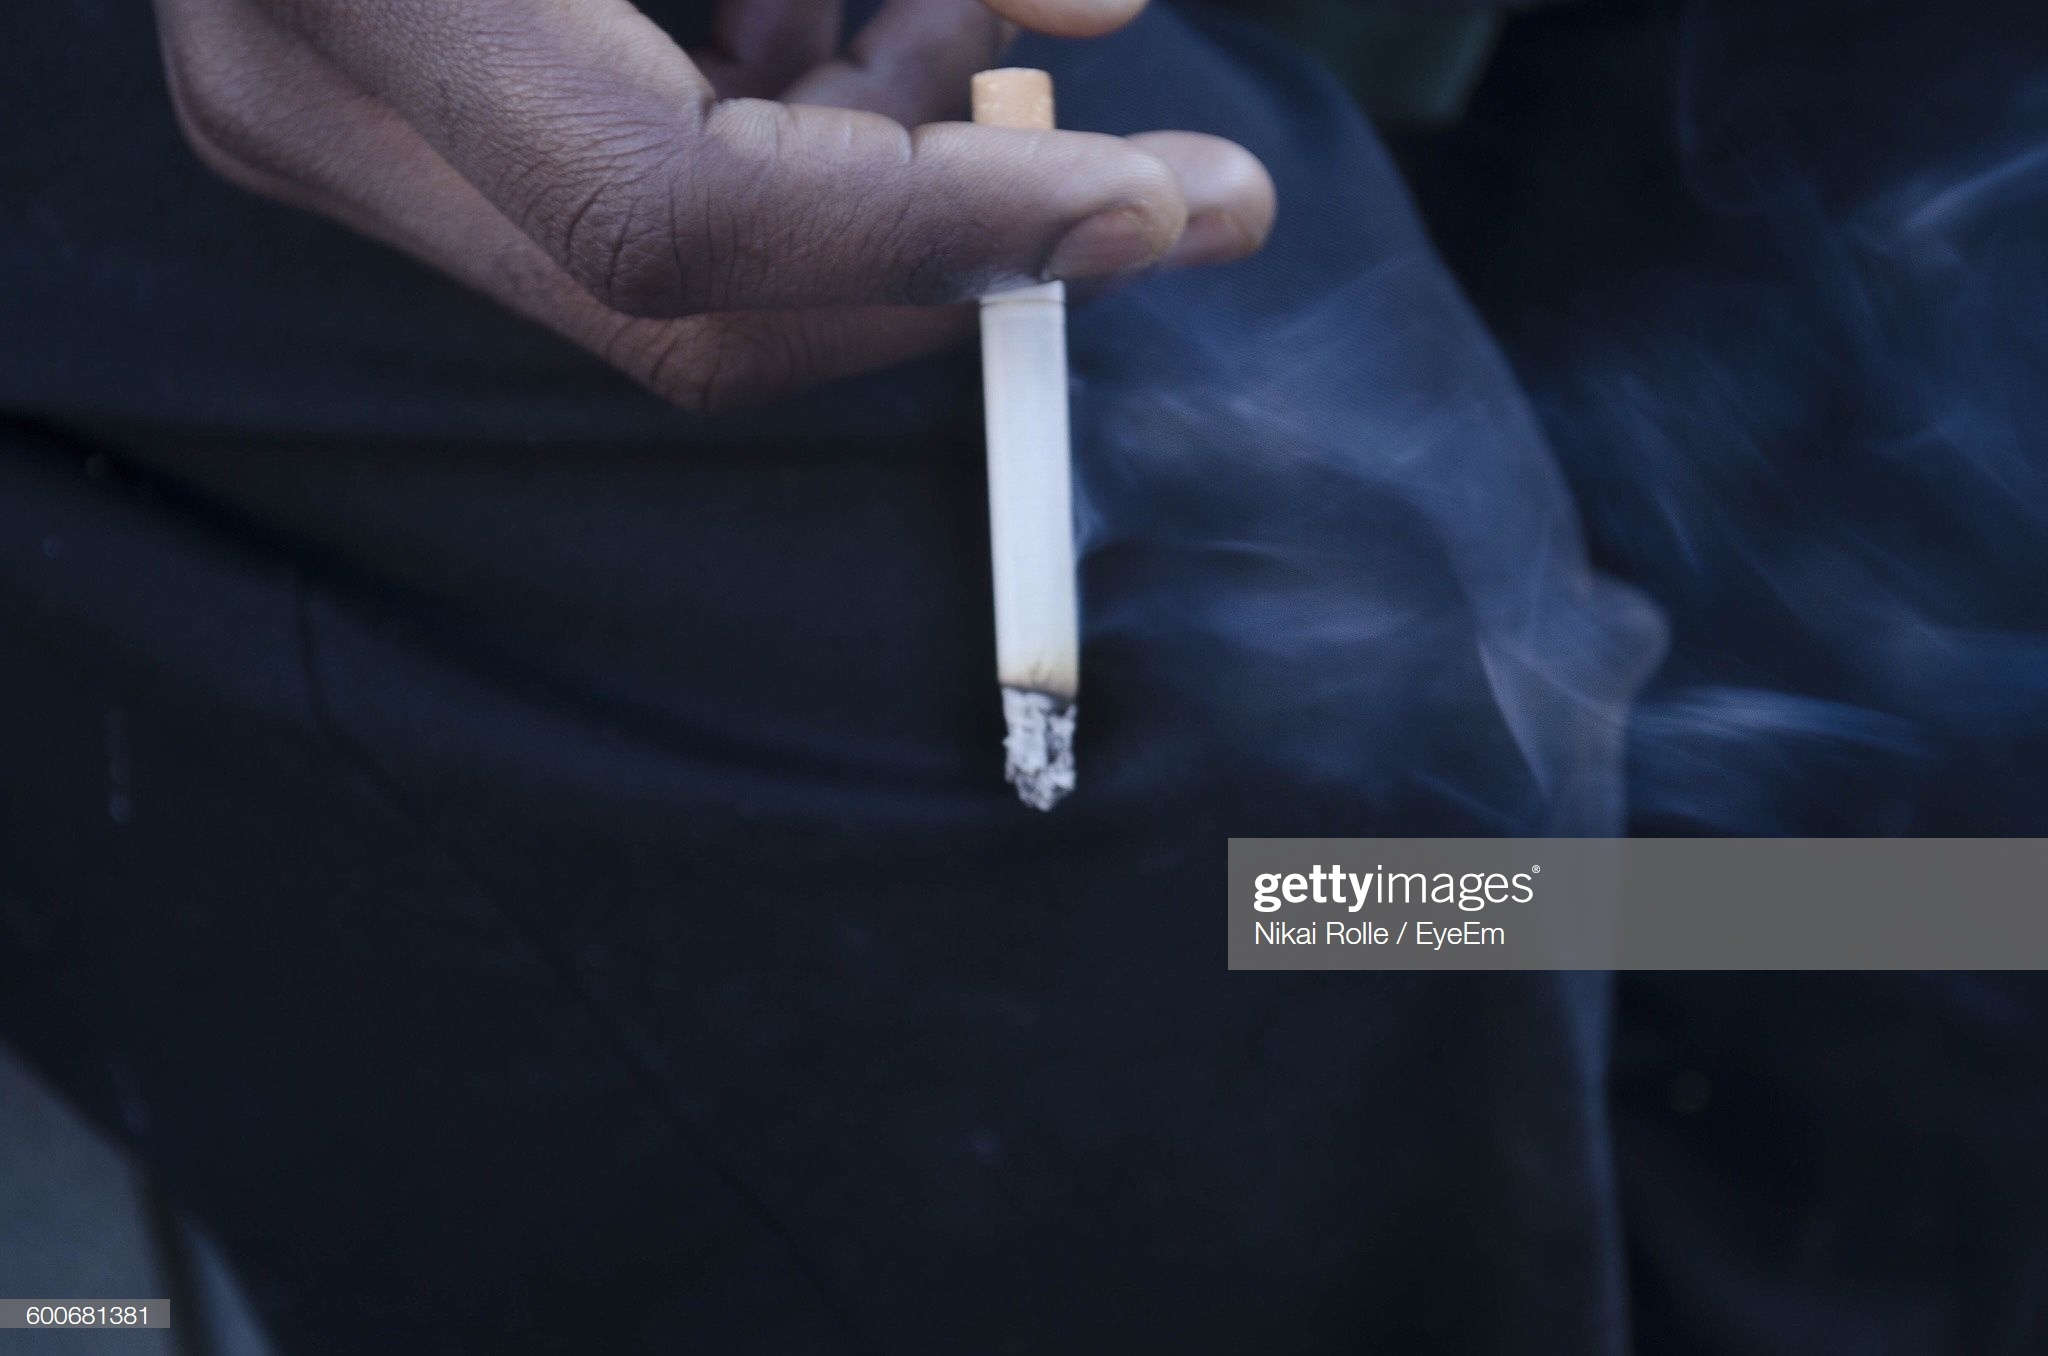sigaretta: (967, 82, 1094, 802)
